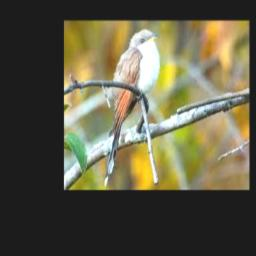Cuckoo: (104, 29, 160, 187)
